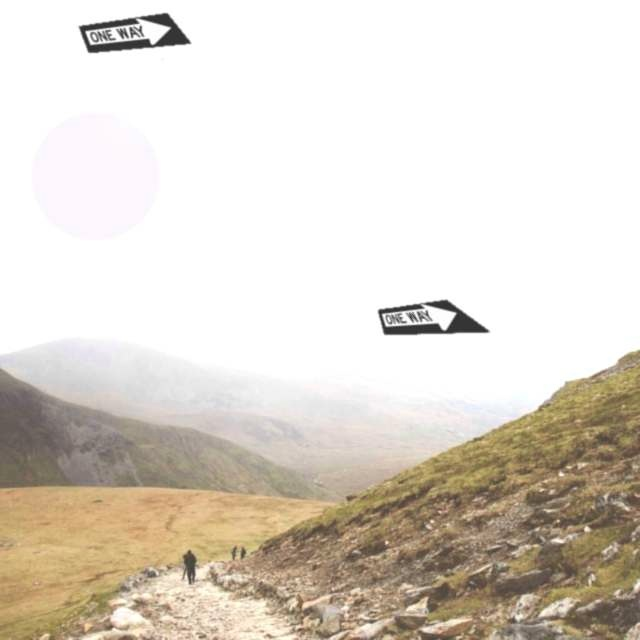ONE_WAY_ right: (78, 12, 192, 53), (377, 299, 491, 335)
